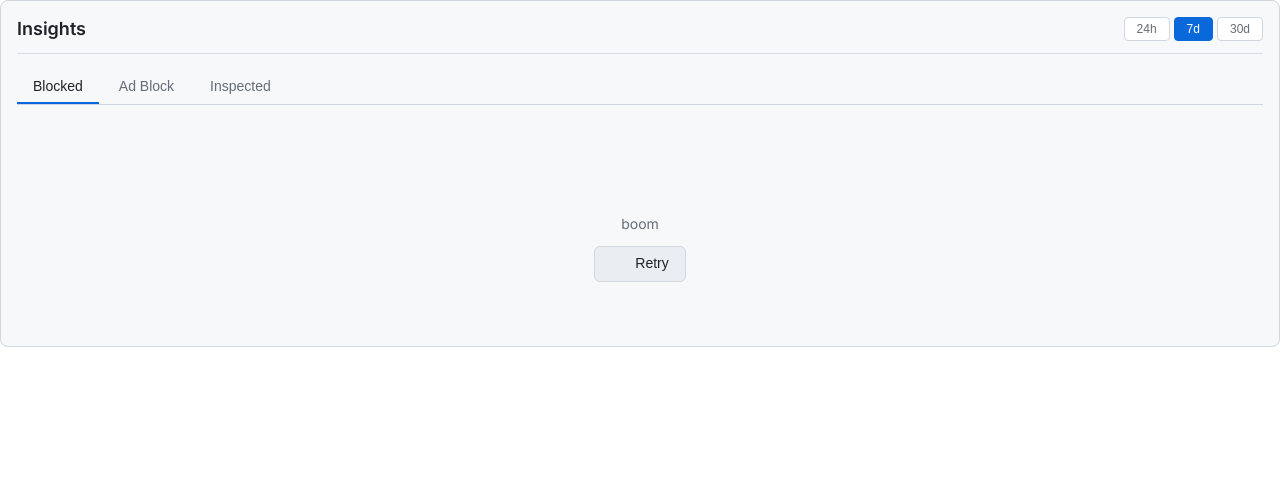
it: InsightsCard › renders ErrorState with a working retry on a 5xx
Expected: the message "boom Retry" is shown, [594,169,686,282]
Click the button "Retry" at coordinates (640, 264), box [594,246,686,282]
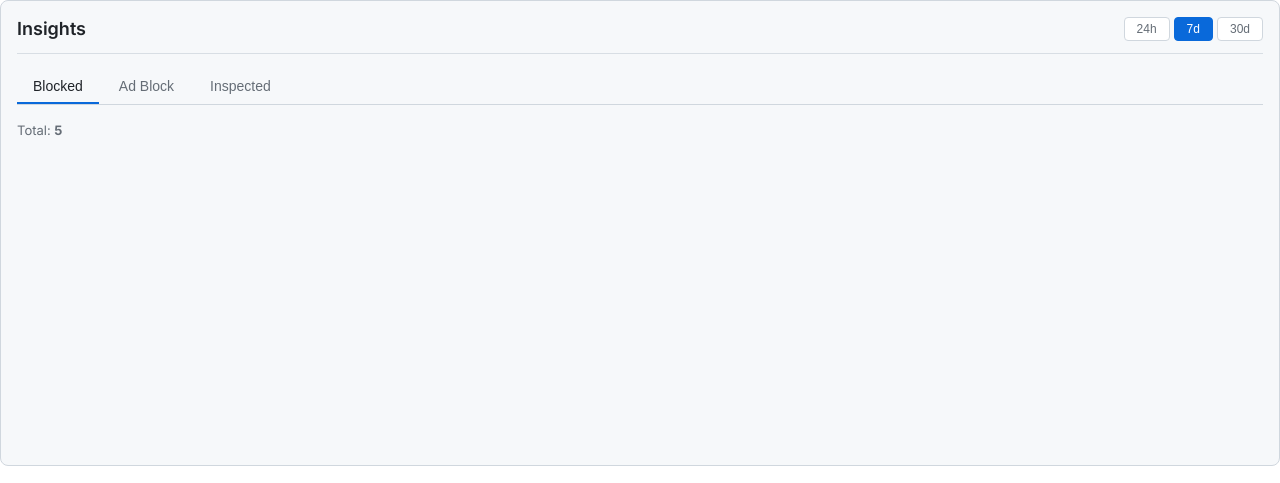
Expected: the text "5" is shown, [54,122,62,138]
